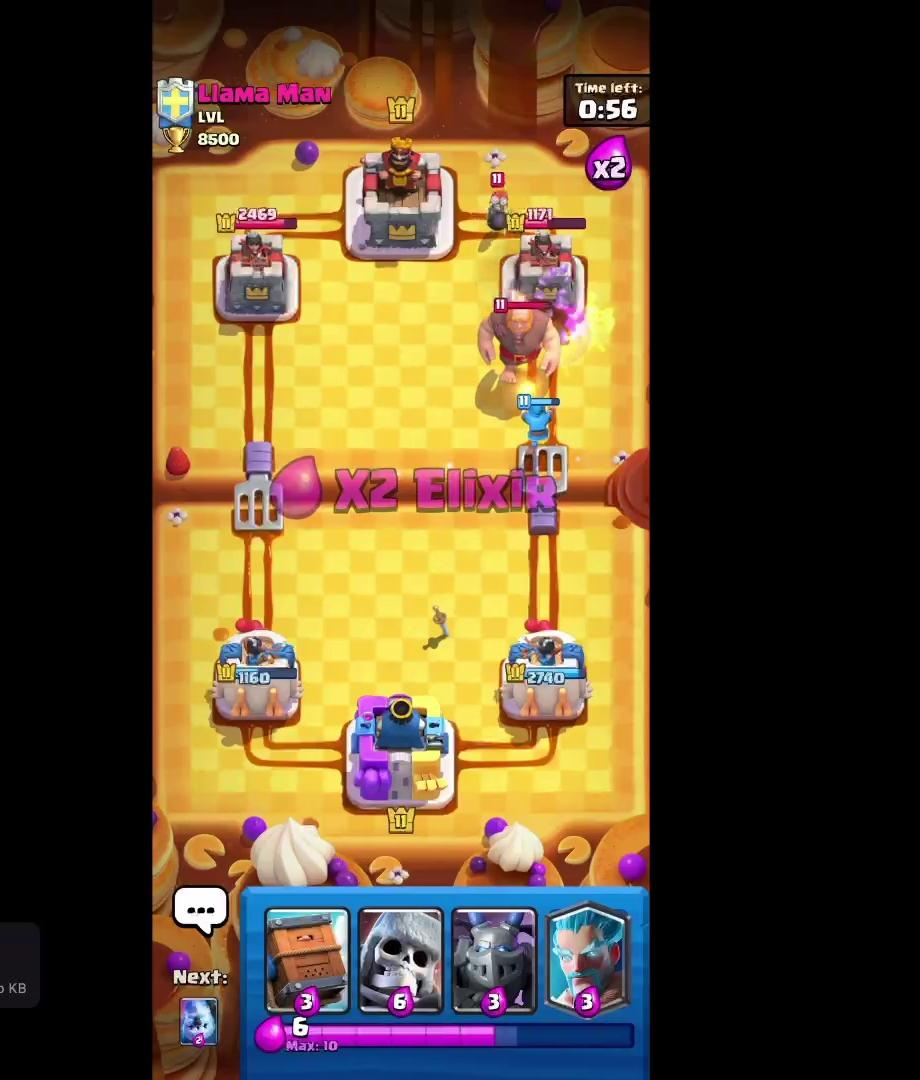Bomber: (475, 166, 520, 234)
Giant: (475, 296, 571, 389)
